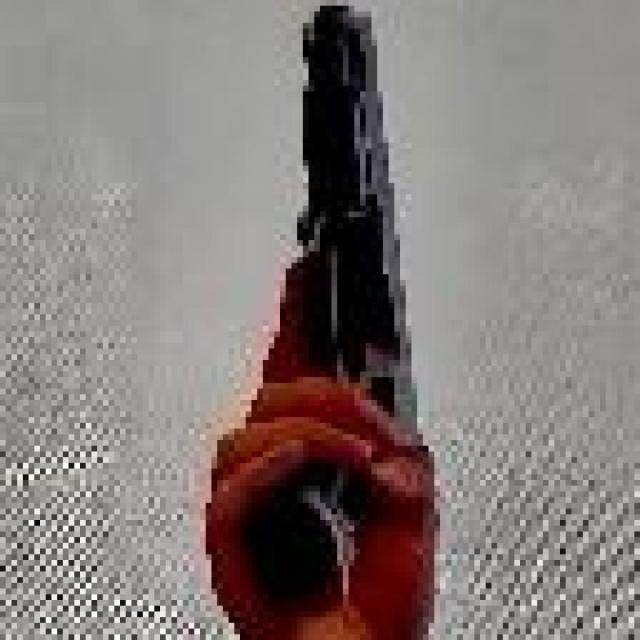pistol: (216, 0, 441, 640)
